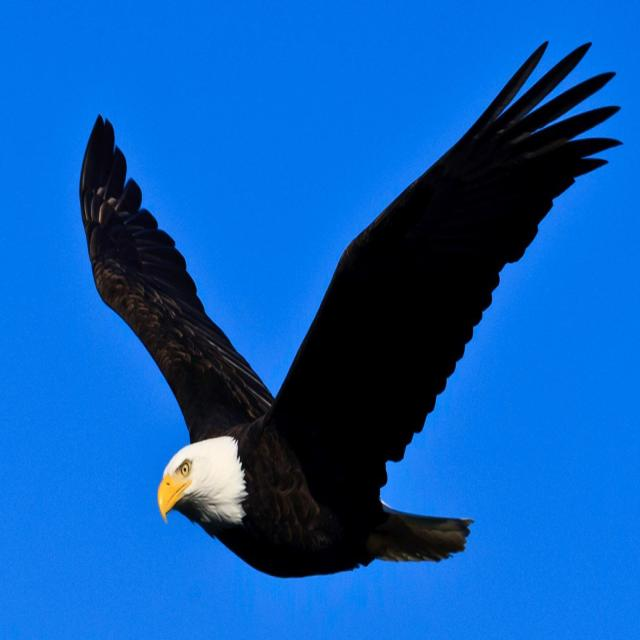Eagle: (75, 51, 593, 586)
